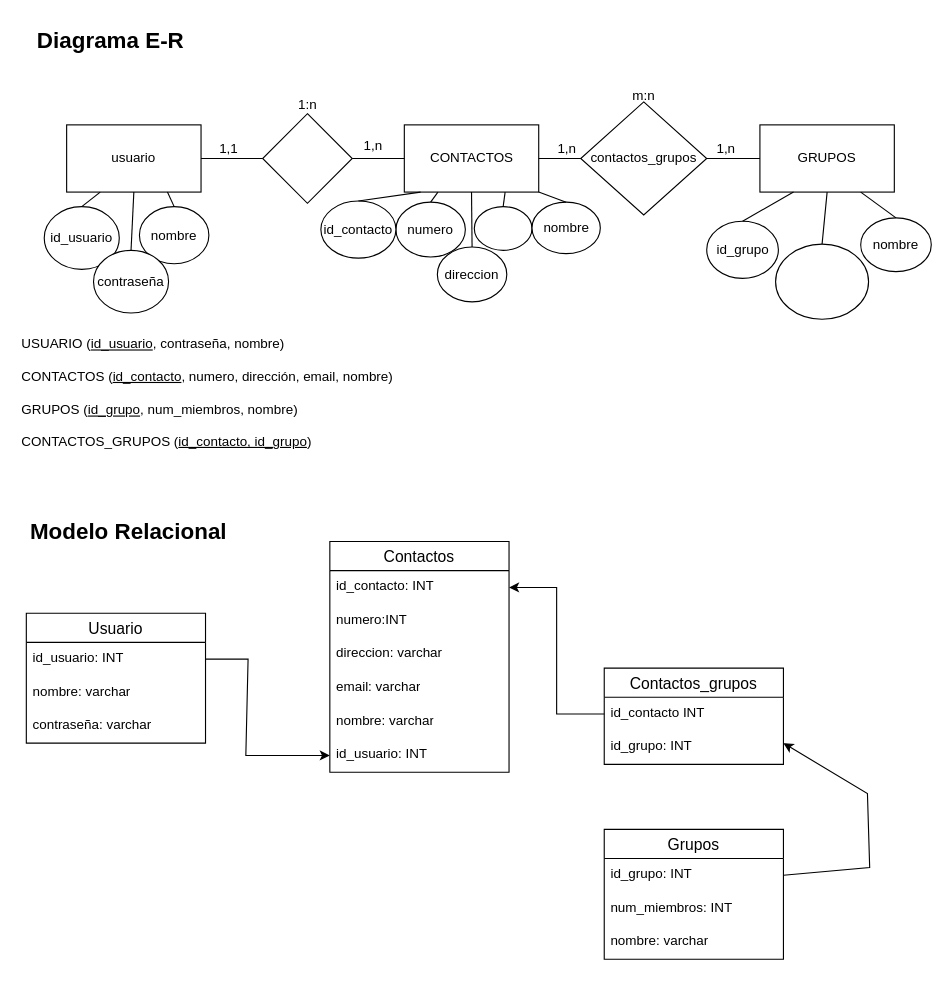
Some shapes in this 951 by 981 pixel diagram are drawn without their labels. The shapes that lost their labels are listed below. From the top down, each one's centre as x and y in pixels, then its label:
At (x=307, y=158): "tiene".
At (x=502, y=228): "email".
At (x=821, y=281): "num_miembros".
